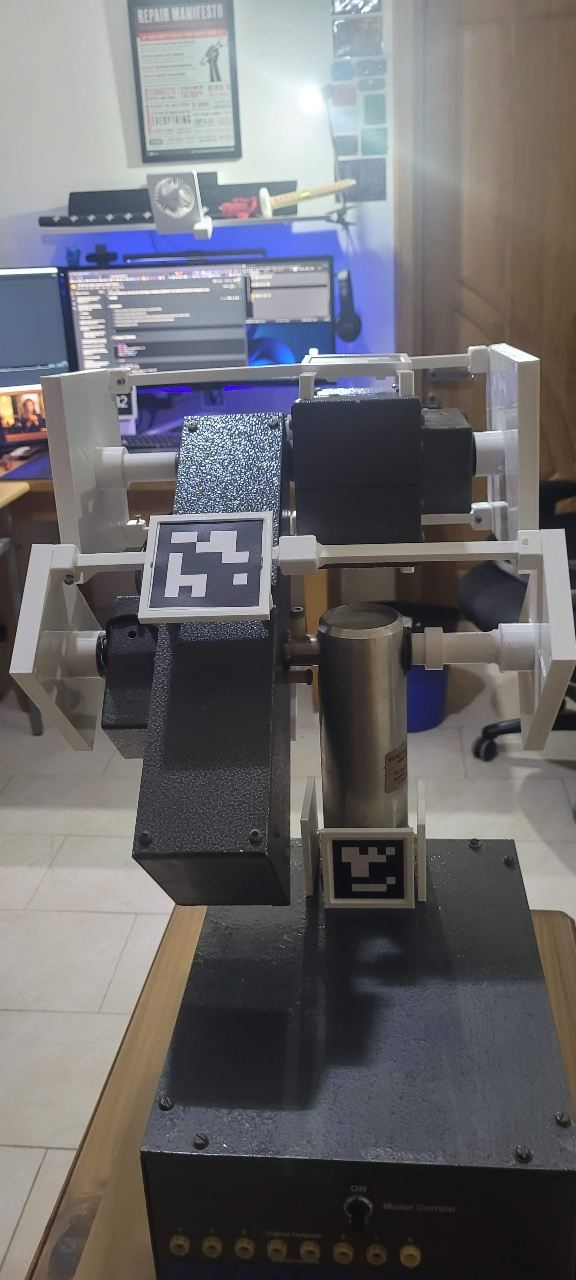Robot: (42, 348, 483, 1180)
